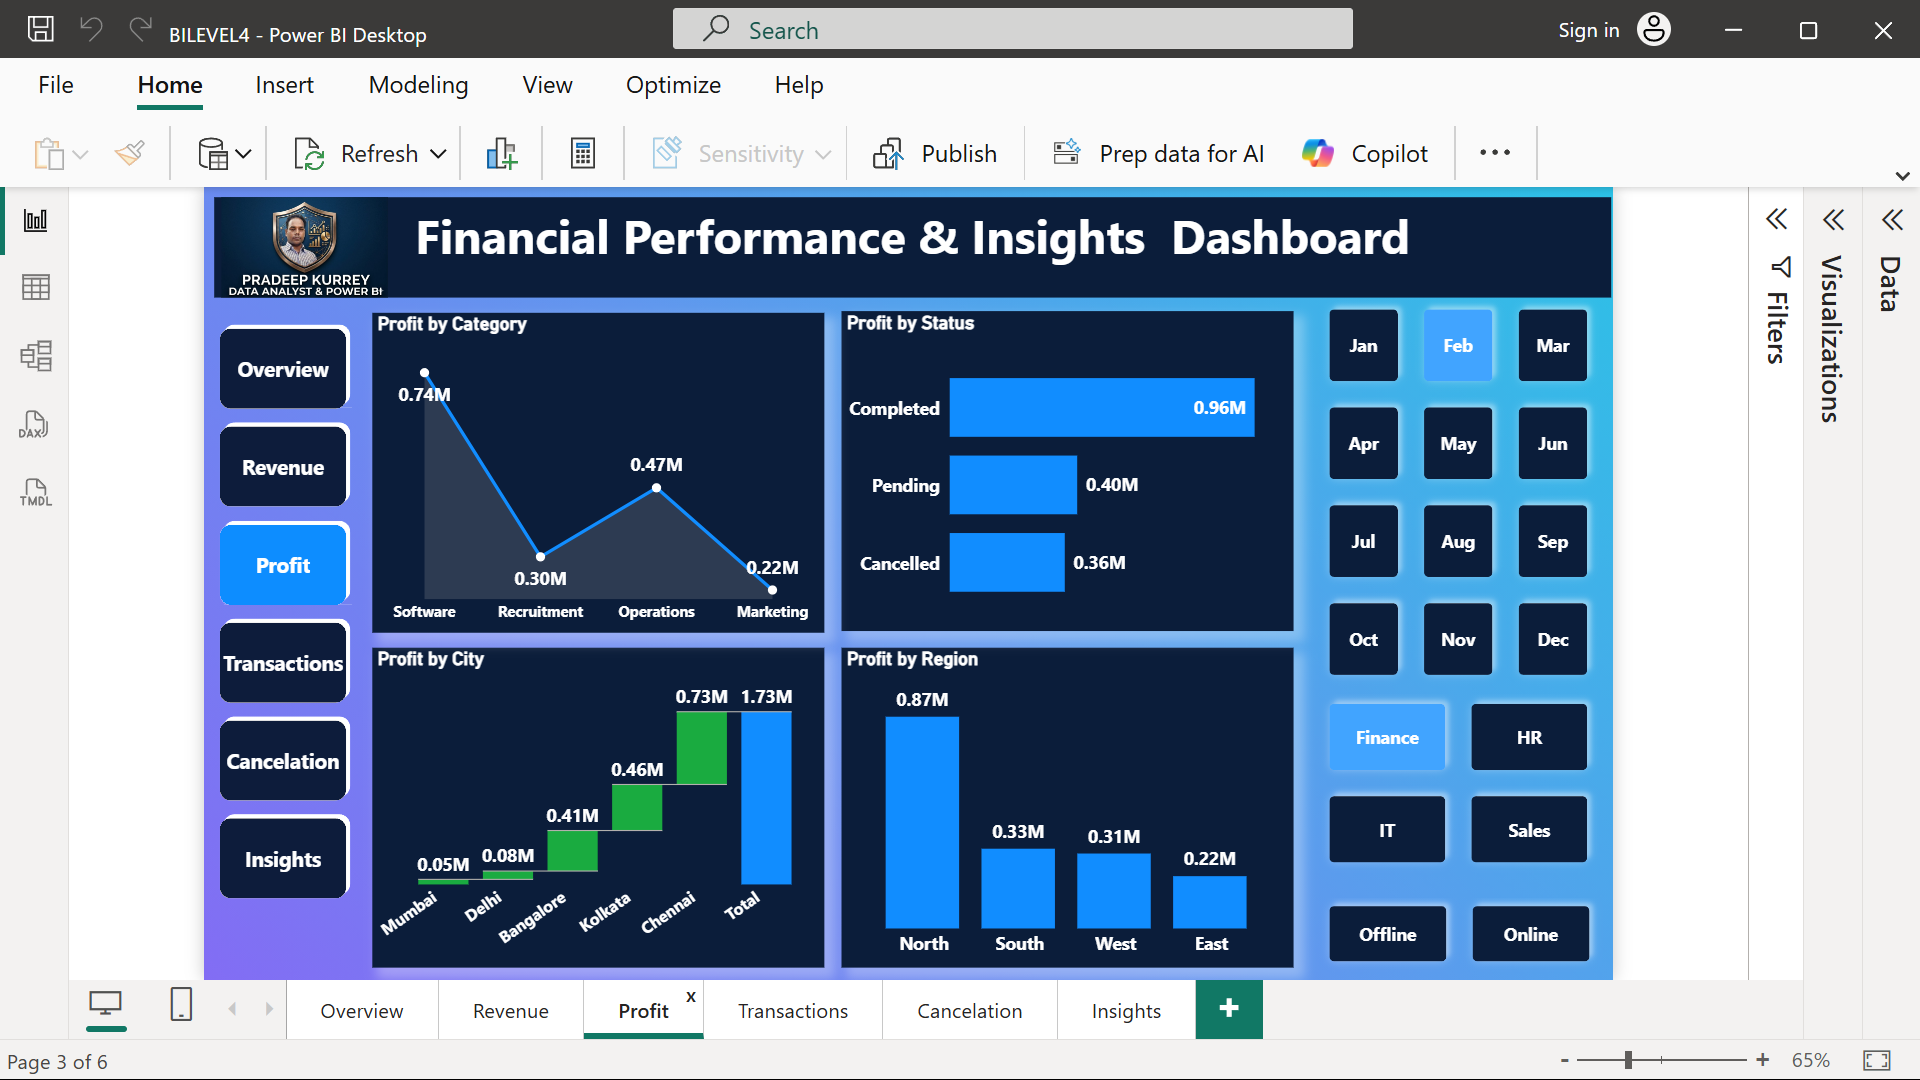

The dashboard page shown, as its layout file describes it:
{"tool":"powerbi","page":{"name":"Profit","canvas":[1280,720],"ordinal":2},"visuals":[{"type":"group","id":"g1","title":"Group 1","box":[8.9,8.9,1268.9,91.1],"z":0},{"type":"textbox","box":[8.9,8.9,1268.9,91.1],"z":0,"group":"g1"},{"type":"image","box":[8.9,8.9,164.4,91.1],"z":1000,"group":"g1"},{"type":"advancedSlicerVisual","fields":{"Values":["Date Table.Month"]},"box":[1004.7,93.8,270.5,368],"z":1000},{"type":"waterfallChart","title":"Profit by City","fields":{"Category":["Sheet1.City"],"Y":["Date Table.profit2024"]},"box":[152.7,417.7,410.3,290.7],"z":2000},{"type":"clusteredColumnChart","title":"Profit by Region","fields":{"Category":["Sheet1.Region"],"Y":["Date Table.profit2024"]},"box":[579.6,417.7,410.3,290.7],"z":3000},{"type":"clusteredBarChart","title":"Profit by Status","fields":{"Category":["Sheet1.Status"],"Y":["Date Table.profit2024"]},"box":[579.6,112.2,410.3,290.7],"z":4000},{"type":"areaChart","title":"Profit by Category","fields":{"Category":["Sheet1.Category"],"Y":["Date Table.profit2024"]},"box":[152.7,114.1,410.3,290.7],"z":5000},{"type":"pageNavigator","box":[9.2,123.3,125.1,529.9],"z":6000},{"type":"advancedSlicerVisual","fields":{"Values":["Sheet1.Department"]},"box":[1004.7,452.6,268.6,178.5],"z":7000},{"type":"advancedSlicerVisual","fields":{"Values":["Sheet1.Payment_Mode"]},"box":[1004.7,635.4,270.5,84.6],"z":8000}]}

Visuals, with their boxes on the page's 1280x720 design canvas (x1, y1, x2, y2). These are canvas units, not pixel positions in the 1920x1080 screenshot, which may show the page scaled, cropped or inside an application window:
"Group 1" group: l=9, t=9, r=1278, b=100
textbox: l=9, t=9, r=1278, b=100
image: l=9, t=9, r=173, b=100
advancedSlicerVisual - Date Table.Month: l=1005, t=94, r=1275, b=462
"Profit by City" waterfallChart: l=153, t=418, r=563, b=708
"Profit by Region" clusteredColumnChart: l=580, t=418, r=990, b=708
"Profit by Status" clusteredBarChart: l=580, t=112, r=990, b=403
"Profit by Category" areaChart: l=153, t=114, r=563, b=405
pageNavigator: l=9, t=123, r=134, b=653
advancedSlicerVisual - Sheet1.Department: l=1005, t=453, r=1273, b=631
advancedSlicerVisual - Sheet1.Payment_Mode: l=1005, t=635, r=1275, b=720
